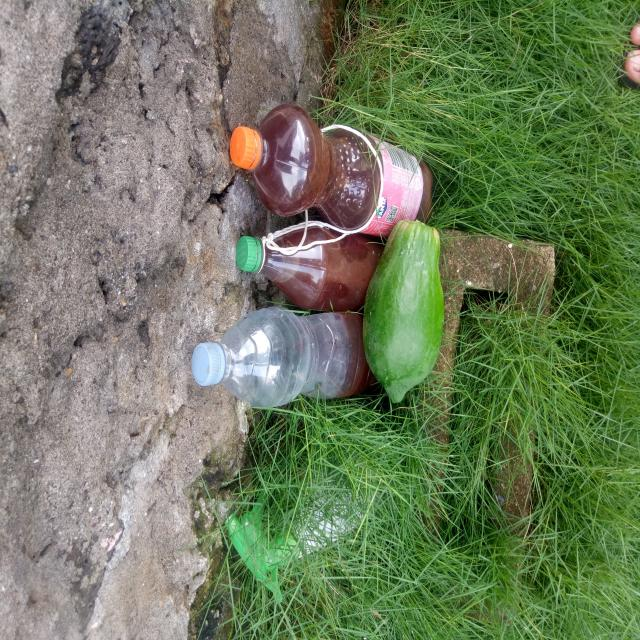Pepaya unrippen: (352, 218, 448, 407)
